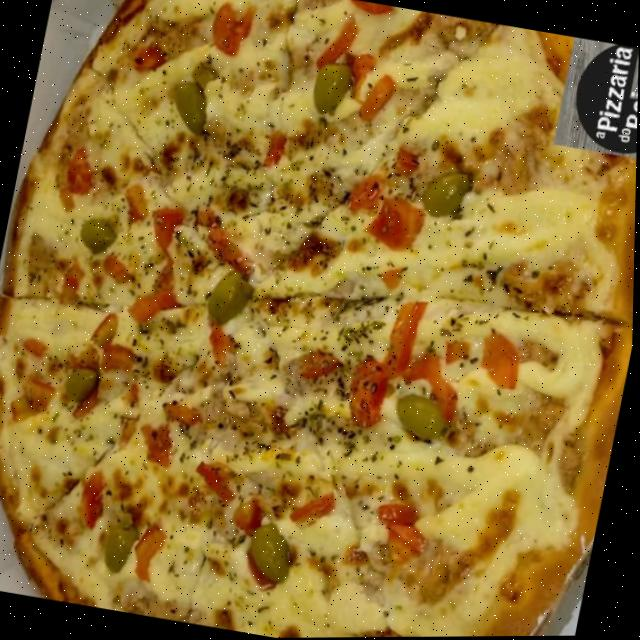green_olives: (413, 164, 476, 224), (389, 391, 455, 447), (245, 521, 299, 585), (162, 75, 216, 138), (305, 58, 353, 119), (206, 268, 256, 325), (100, 519, 146, 578), (61, 361, 107, 410), (71, 214, 123, 257)
pizza: (0, 0, 640, 640)
tomatoes: (339, 284, 428, 445), (134, 395, 204, 475), (365, 492, 434, 571), (355, 193, 430, 261), (195, 213, 265, 279), (339, 51, 402, 122), (199, 0, 258, 63), (472, 329, 530, 392), (125, 277, 186, 332), (129, 516, 173, 590), (55, 143, 100, 211), (4, 372, 57, 427), (313, 10, 359, 72), (192, 321, 243, 376), (191, 454, 243, 507), (72, 469, 115, 533), (147, 198, 192, 259), (340, 168, 389, 218), (120, 36, 170, 81), (286, 486, 337, 530), (94, 338, 140, 386), (294, 345, 343, 388), (251, 125, 290, 176), (230, 488, 266, 543), (117, 184, 154, 234), (95, 250, 139, 288), (86, 309, 123, 350), (383, 144, 423, 180), (70, 389, 105, 429), (441, 335, 472, 367), (334, 0, 391, 17), (377, 260, 409, 289), (60, 264, 88, 295), (21, 336, 53, 358)
